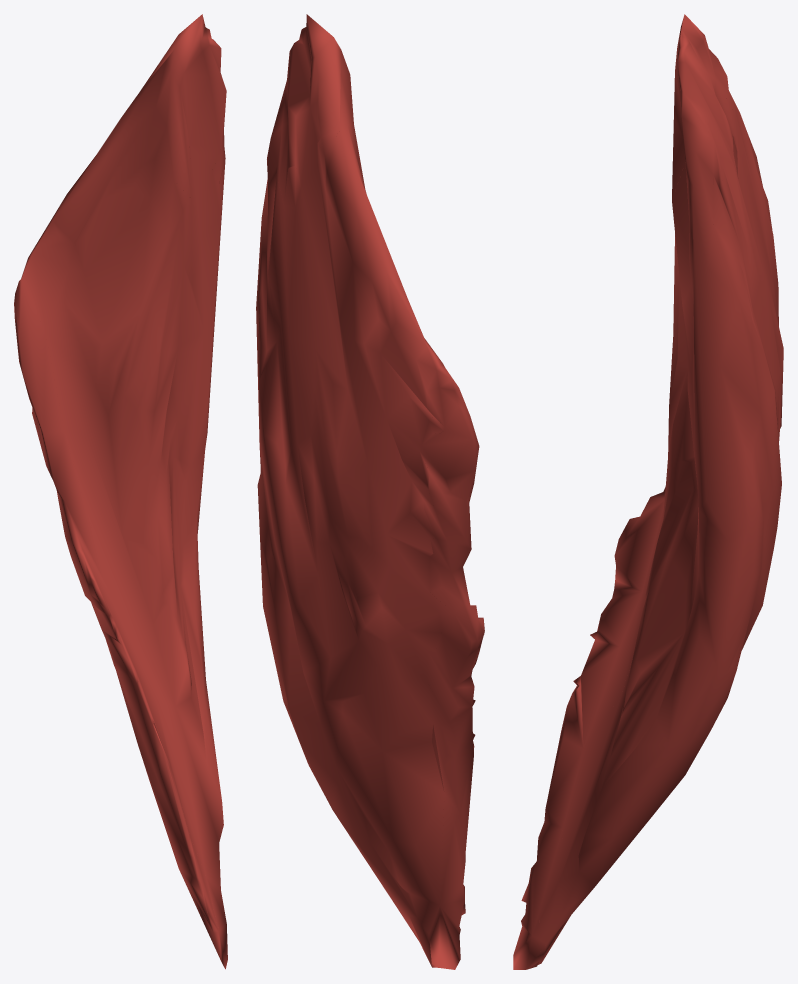
Rendered from musculos-anconeus-muscle-l.glb.
3 renders of one model, left to right at view 1: azimuth 30°, elevation 25°; view 2: azimuth 150°, elevation 25°; view 3: azimuth 270°, elevation 25°, orthographic. The views are drawn at different scales.
Parts seen in each view (by area): view 1: Anconeus muscle.l; view 2: Anconeus muscle.l; view 3: Anconeus muscle.l.
Boxes of the visible parts, x1=… form: Anconeus muscle.l: x1=14, y1=14, x2=227, y2=969; Anconeus muscle.l: x1=256, y1=14, x2=484, y2=969; Anconeus muscle.l: x1=513, y1=14, x2=783, y2=969.
Size of the model in its own units: 0.0238 by 0.1045 by 0.026.
